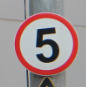speed_limit_5: (14, 12, 78, 75)
